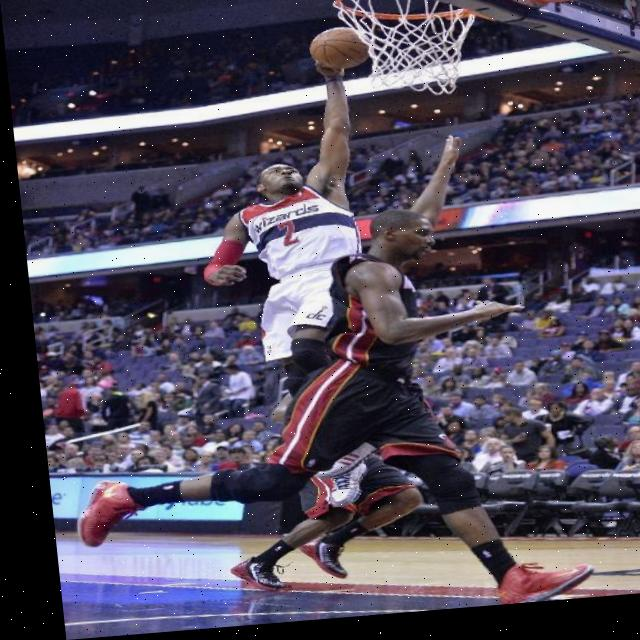basketball: (308, 24, 370, 73)
hoop: (331, 0, 487, 104)
